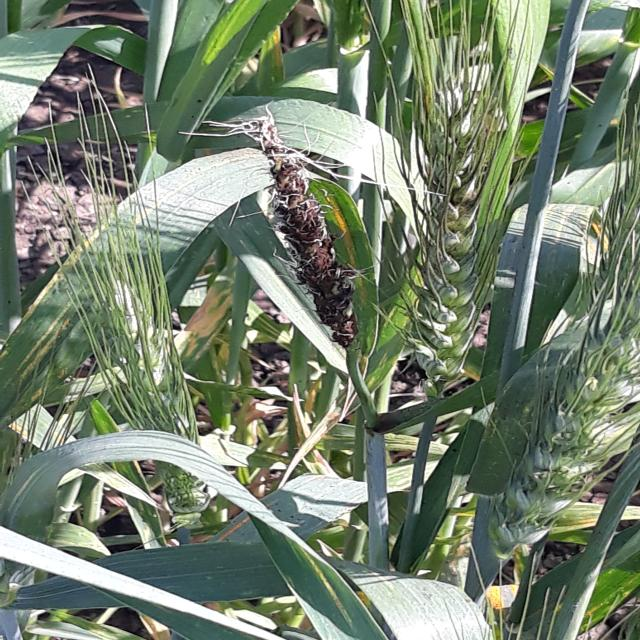loose_charred: (194, 110, 406, 366)
yellow_rust: (0, 184, 156, 397), (318, 161, 397, 298), (274, 385, 354, 474), (172, 286, 252, 369), (543, 204, 619, 262), (584, 569, 640, 628), (262, 28, 300, 86), (211, 514, 272, 550), (560, 493, 602, 542), (118, 612, 183, 640), (487, 582, 526, 610)
